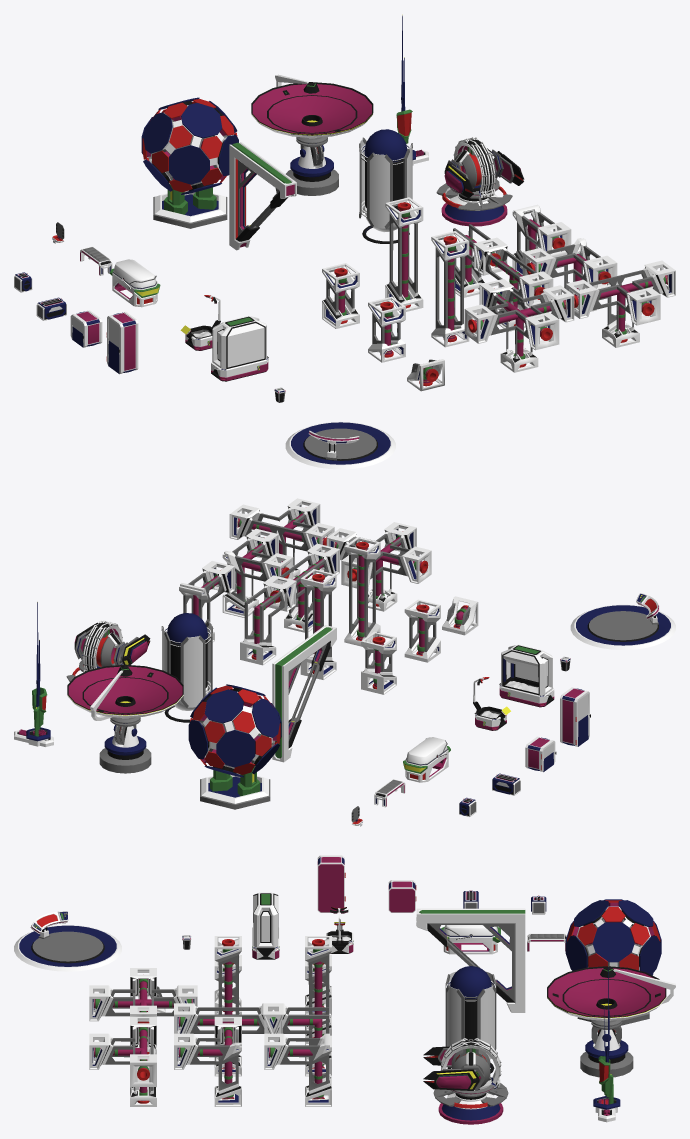
Rendered from ColonyFactory_Deco01.fbx.
The picture shows the model from 3 angles, top to bottom: view 1: azimuth 30°, elevation 25°; view 2: azimuth 150°, elevation 25°; view 3: azimuth 270°, elevation 25°; orthographic projection. The views are drawn at different scales.
Visible parts, largest first — view 1: Hedra001, Cylinder007, Box012, Box011, Cylinder011, Box001, Box007, Box003, Box009, PlantVessel001, Box008, Box005 (+18 smaller); view 2: Hedra001, Cylinder007, Box012, Cylinder011, Box001, Box011, Box009, Box007, Box008, Box004, PlantVessel001, Box003 (+19 smaller); view 3: Cylinder007, Hedra001, Box001, Cylinder011, Box011, Box012, Box009, Box005, Box008, Cylinder001, Box003, TankBig00 (+18 smaller).
Boxes of the visible parts, x1,y1,x2,y2 form: Hedra001: [141, 97, 238, 214]; Cylinder007: [251, 74, 373, 166]; Box012: [464, 279, 574, 372]; Box011: [566, 260, 675, 347]; Cylinder011: [285, 421, 395, 469]; Box001: [229, 142, 296, 250]; Box007: [431, 231, 469, 347]; Box003: [385, 197, 423, 311]; Box009: [522, 238, 617, 315]; PlantVessel001: [212, 316, 266, 369]; Box008: [474, 238, 553, 331]; Box005: [512, 204, 571, 280]; Hedra001: [188, 684, 281, 796]; Cylinder007: [67, 664, 183, 745]; Box012: [326, 522, 431, 611]; Cylinder011: [570, 604, 675, 649]; Box001: [272, 625, 336, 762]; Box011: [229, 498, 334, 583]; Box009: [222, 528, 293, 617]; Box007: [344, 537, 380, 646]; Box008: [264, 543, 339, 632]; Box004: [240, 576, 295, 665]; PlantVessel001: [501, 644, 552, 695]; Box003: [300, 569, 336, 679]; Cylinder007: [547, 966, 675, 1043]; Hedra001: [565, 899, 661, 975]; Box001: [416, 908, 525, 1012]; Cylinder011: [14, 925, 121, 971]; Box011: [89, 1016, 156, 1106]; Box012: [89, 968, 197, 1054]; Box009: [174, 1016, 241, 1106]; Box005: [264, 1033, 331, 1106]; Box008: [174, 1003, 282, 1076]; Cylinder001: [433, 1083, 508, 1124]; Box003: [305, 936, 331, 1045]; TankBig00: [447, 971, 494, 1059].
Bounding box in the file's own units: 194 × 58.92 × 244.
